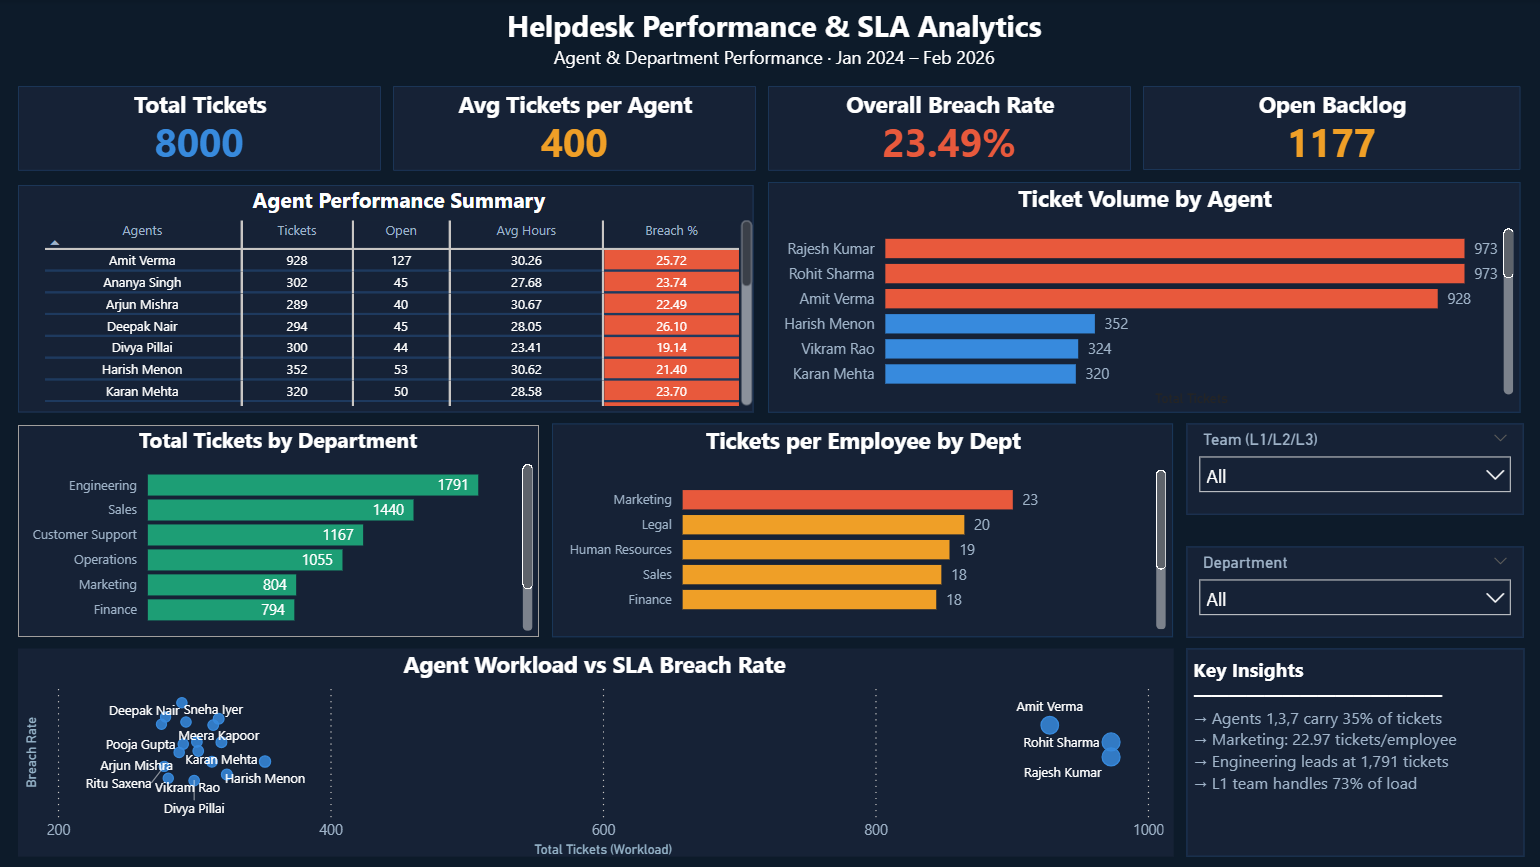

The page's visual inventory and layout, read from the dashboard file:
{"tool":"powerbi","page":{"name":"Agent & Department Performance","canvas":[1280,720],"ordinal":2},"visuals":[{"type":"textbox","box":[0,0,1280,67],"z":0},{"type":"card","title":"Open Backlog","fields":{"Values":["Measures_.Open Backlog"]},"box":[944.5,72.2,311.8,69.6],"z":1000},{"type":"card","title":"Total Tickets","fields":{"Values":["Measures_.Total Tickets"]},"box":[15,72,300,70],"z":2000},{"type":"card","title":"Avg Tickets per Agent","fields":{"Values":["Measures_.Tickets per Agent"]},"box":[325,72,300,70],"z":3000},{"type":"card","title":"Overall Breach Rate","fields":{"Values":["Measures_.Agent Breach Rate %"]},"box":[635,72,300,70],"z":4000},{"type":"tableEx","title":" Agent Performance Summary","fields":{"Values":["vw_agent_summary.agent_name","vw_agent_summary.total_tickets","vw_agent_summary.open_tickets","vw_agent_summary.avg_resolution_hrs","vw_agent_summary.breach_rate_pct"]},"box":[15.5,153.3,608.2,188.1],"z":5000},{"type":"clusteredBarChart","title":"Ticket Volume by Agent","fields":{"Category":["vw_tickets_full.agent_name"],"Y":["Measures_.Total Tickets"]},"box":[634.8,151.2,622.2,190.6],"z":6000},{"type":"clusteredBarChart","title":"Total Tickets by Department","fields":{"Category":["vw_tickets_full.dept_name"],"Y":["Measures_.Total Tickets"]},"box":[15,352,430,175],"z":7000},{"type":"clusteredBarChart","title":"Tickets per Employee by Dept","fields":{"Category":["vw_tickets_full.dept_name"],"Y":["Measures_.Tickets per Employee"]},"box":[456.8,351.2,513.5,176.4],"z":8000},{"type":"slicer","fields":{"Values":["vw_tickets_full.agent_name"]},"box":[981.3,351.2,278.8,75.6],"z":9000},{"type":"slicer","fields":{"Values":["vw_tickets_full.dept_name"]},"box":[981.3,452,278.8,75.6],"z":10000},{"type":"textbox","box":[980.6,537.3,279.6,172],"z":11000},{"type":"scatterChart","title":"Agent Workload vs SLA Breach Rate ","fields":{"Category":["vw_tickets_full.agent_name"],"Size":["Measures_.Total Tickets"],"X":["Measures_.Total Tickets"],"Y":["Measures_.Agent Breach Rate Num"]},"box":[15.5,537,955,172],"z":12000}]}

Visuals, with their boxes in screenshot pixels (x1, y1, x2, y2), scaled from the page's 1280x720 canvas onto the 1540x867 screenshot:
textbox: 0:0:1539:81
"Open Backlog" card: 1136:87:1511:171
"Total Tickets" card: 18:87:379:171
"Avg Tickets per Agent" card: 391:87:752:171
"Overall Breach Rate" card: 764:87:1125:171
" Agent Performance Summary" tableEx: 19:185:750:411
"Ticket Volume by Agent" clusteredBarChart: 764:182:1512:412
"Total Tickets by Department" clusteredBarChart: 18:424:535:635
"Tickets per Employee by Dept" clusteredBarChart: 550:423:1167:635
slicer - vw_tickets_full.agent_name: 1181:423:1516:514
slicer - vw_tickets_full.dept_name: 1181:544:1516:635
textbox: 1180:647:1516:854
"Agent Workload vs SLA Breach Rate " scatterChart: 19:647:1168:854
